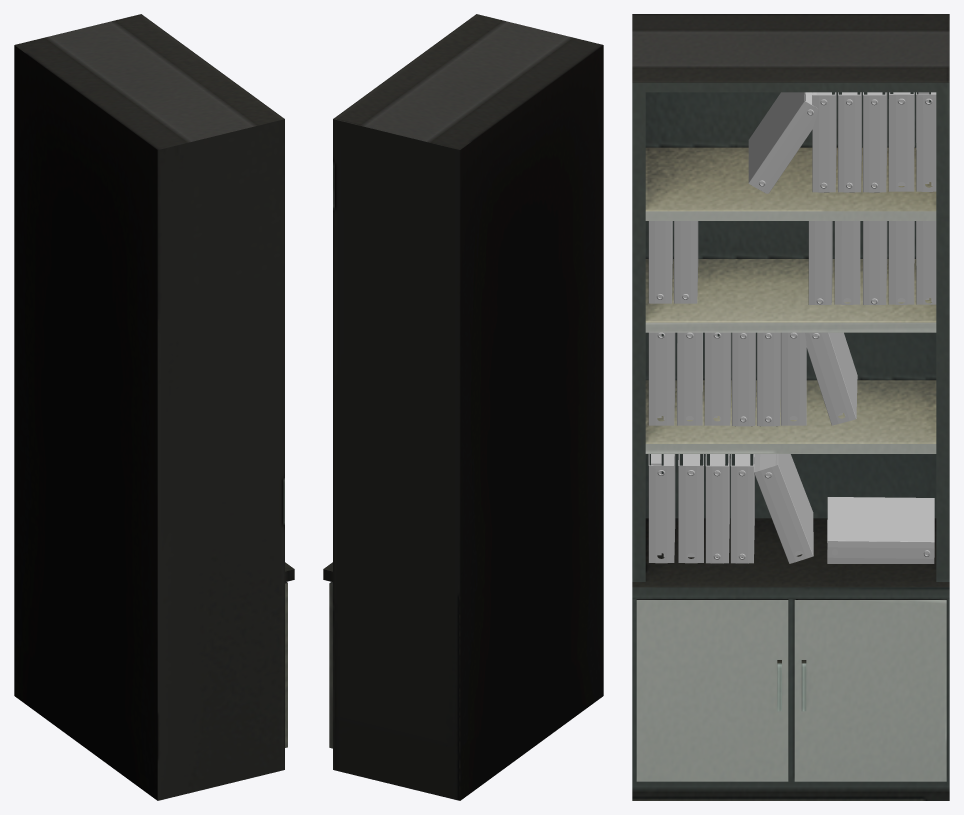
The model's file is 3Dguoji_HDGS_shujia_xp_ljw.FBX.
3 renders of one model, left to right at view 1: azimuth 30°, elevation 25°; view 2: azimuth 150°, elevation 25°; view 3: azimuth 270°, elevation 25°, orthographic. The views are drawn at different scales.
Visible parts, largest first — view 1: 3Dguoji_HDGS_Gshujia_xp_ljw; view 2: 3Dguoji_HDGS_Gshujia_xp_ljw; view 3: 3Dguoji_HDGS_Gshujia_xp_ljw.
Boxes of the visible parts, <box> form: 3Dguoji_HDGS_Gshujia_xp_ljw: <box>14,14,294,800</box>; 3Dguoji_HDGS_Gshujia_xp_ljw: <box>323,14,603,800</box>; 3Dguoji_HDGS_Gshujia_xp_ljw: <box>632,14,949,800</box>.
Bounding box in the file's own units: 0.4067 × 1.82 × 0.7296.
